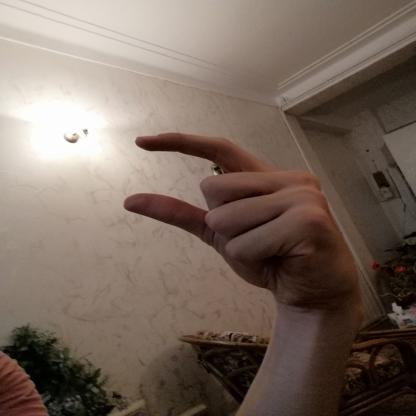DELL: (108, 120, 369, 315)
